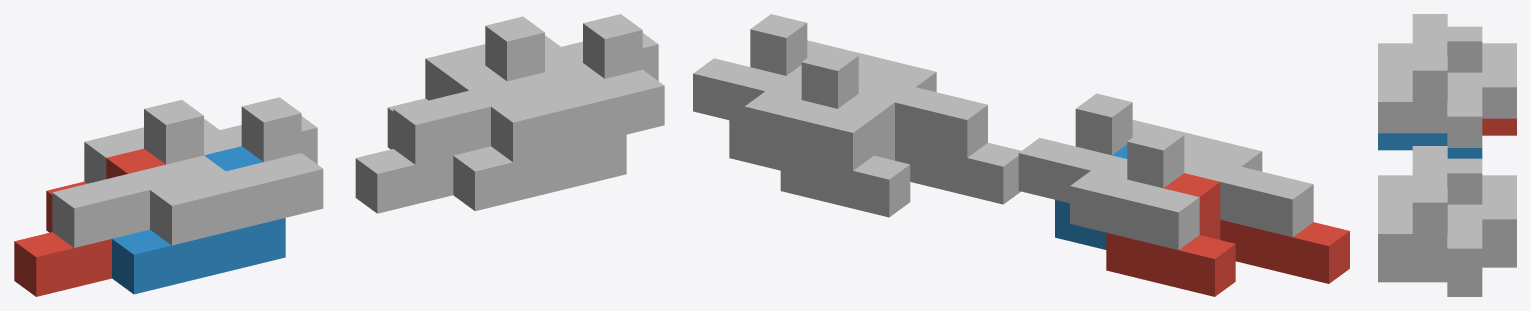
The model's file is tiling.obj.
3 views of the same model, side by side, from view 1: azimuth 30°, elevation 25°; view 2: azimuth 150°, elevation 25°; view 3: azimuth 270°, elevation 25° (orthographic). The views are drawn at different scales.
Parts seen in each view (by area): view 1: copy_1_domain_4, copy_1_domain_8, copy_1_domain_7, copy_1_domain_3, copy_1_domain_2, copy_1_domain_6, copy_1_domain_5, copy_1_domain_1; view 2: copy_1_domain_3, copy_1_domain_7, copy_1_domain_1, copy_1_domain_5, copy_1_domain_4, copy_1_domain_8, copy_1_domain_6, copy_1_domain_2; view 3: copy_1_domain_8, copy_1_domain_4, copy_1_domain_3, copy_1_domain_7, copy_1_domain_6, copy_1_domain_2, copy_1_domain_1, copy_1_domain_5.
Part boxes in pixels (bbox=[...]): copy_1_domain_4: bbox=[150, 97, 323, 245]; copy_1_domain_8: bbox=[491, 14, 664, 162]; copy_1_domain_7: bbox=[393, 16, 566, 164]; copy_1_domain_3: bbox=[52, 100, 225, 247]; copy_1_domain_2: bbox=[112, 146, 285, 294]; copy_1_domain_6: bbox=[453, 63, 626, 211]; copy_1_domain_5: bbox=[355, 65, 506, 213]; copy_1_domain_1: bbox=[14, 148, 165, 296]; copy_1_domain_3: bbox=[1070, 126, 1313, 250]; copy_1_domain_7: bbox=[744, 47, 987, 170]; copy_1_domain_1: bbox=[1106, 173, 1349, 296]; copy_1_domain_5: bbox=[780, 93, 1021, 217]; copy_1_domain_4: bbox=[1018, 93, 1262, 203]; copy_1_domain_8: bbox=[693, 14, 936, 123]; copy_1_domain_6: bbox=[729, 65, 801, 170]; copy_1_domain_2: bbox=[1055, 144, 1127, 249]; copy_1_domain_8: bbox=[1378, 175, 1482, 280]; copy_1_domain_4: bbox=[1378, 43, 1482, 147]; copy_1_domain_3: bbox=[1412, 14, 1516, 118]; copy_1_domain_7: bbox=[1412, 146, 1516, 250]; copy_1_domain_6: bbox=[1378, 265, 1482, 296]; copy_1_domain_2: bbox=[1378, 133, 1482, 158]; copy_1_domain_1: bbox=[1482, 118, 1516, 135]; copy_1_domain_5: bbox=[1482, 251, 1516, 267].
Size of the model in its own units: 17 by 3 by 4.
